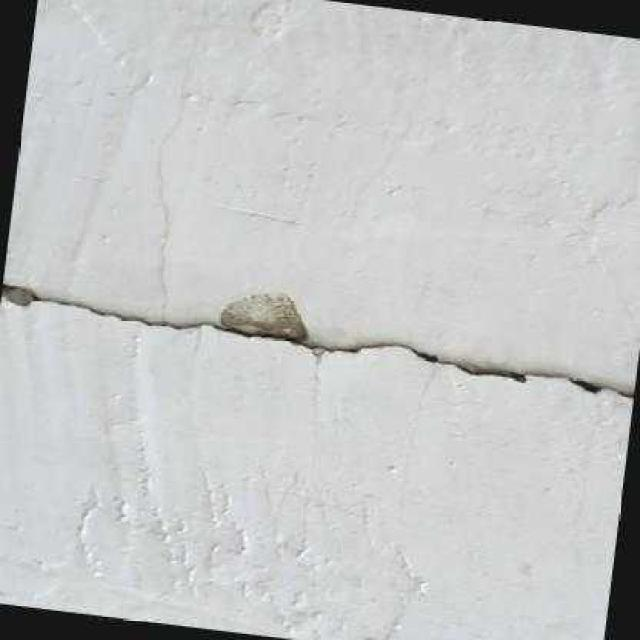D00: (1, 281, 634, 397)
